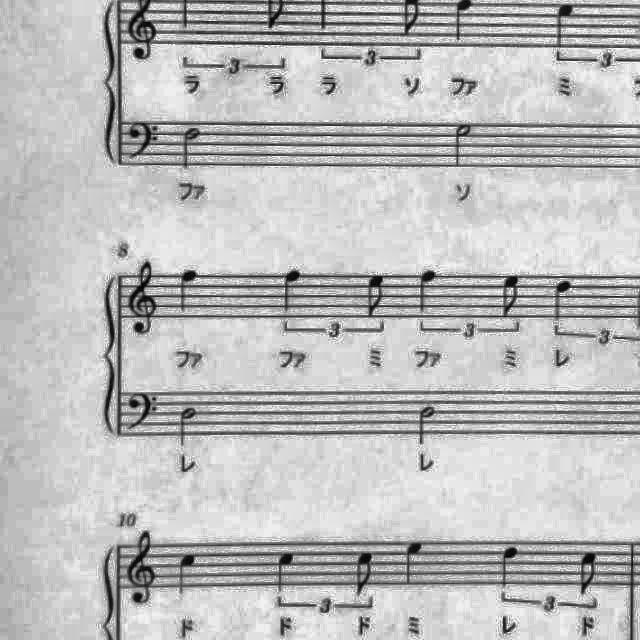Bass-clef: (122, 387, 166, 437), (124, 116, 168, 166)
Eighth-note: (349, 545, 381, 599), (360, 266, 392, 320), (574, 546, 606, 598), (495, 268, 527, 320)
Half-note: (175, 120, 205, 172), (449, 118, 478, 170), (173, 401, 203, 451), (412, 400, 442, 448)
Quarter-note: (171, 546, 205, 600), (399, 535, 431, 589), (276, 263, 308, 317), (411, 263, 442, 317), (494, 540, 526, 592), (270, 546, 302, 598), (173, 264, 203, 316), (550, 0, 580, 52), (547, 276, 577, 326), (448, 0, 479, 48)
Treble-clef: (122, 527, 164, 609), (124, 255, 164, 339)
